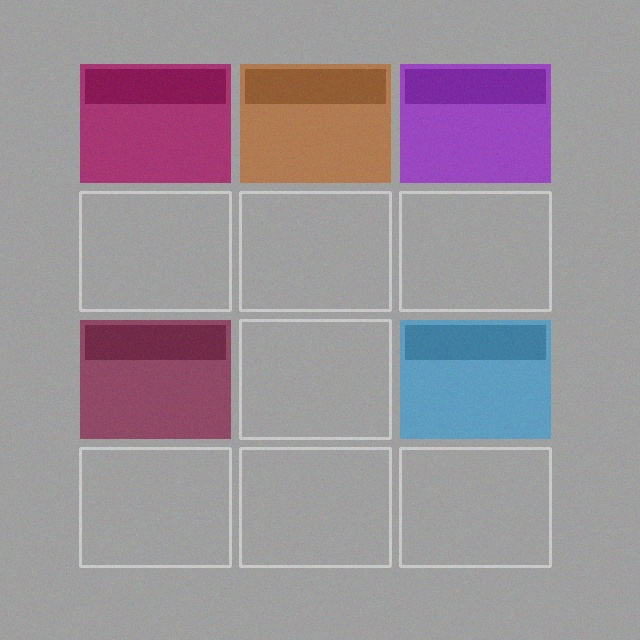space-empty: (80, 192, 230, 310), (240, 192, 390, 310), (400, 192, 550, 310), (240, 320, 390, 438), (80, 448, 230, 566), (240, 448, 390, 566), (400, 448, 550, 566)
space-occupied: (80, 64, 230, 182), (240, 64, 390, 182), (400, 64, 550, 182), (80, 320, 230, 438), (400, 320, 550, 438)
